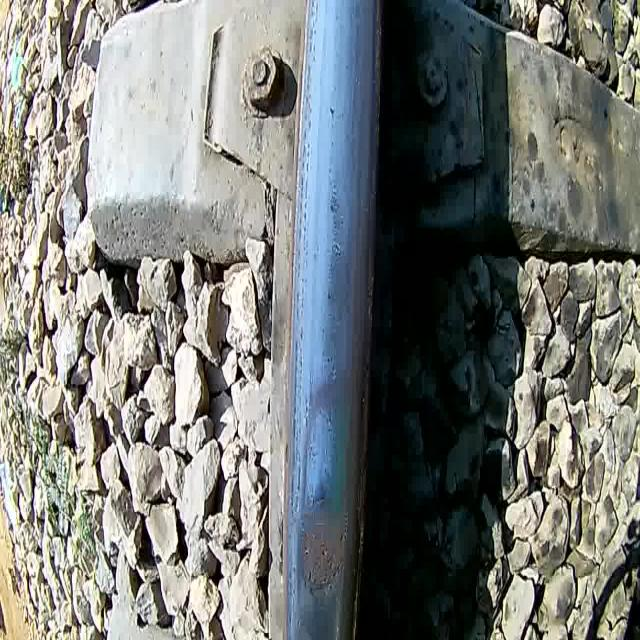Squats: (296, 482, 354, 602)
